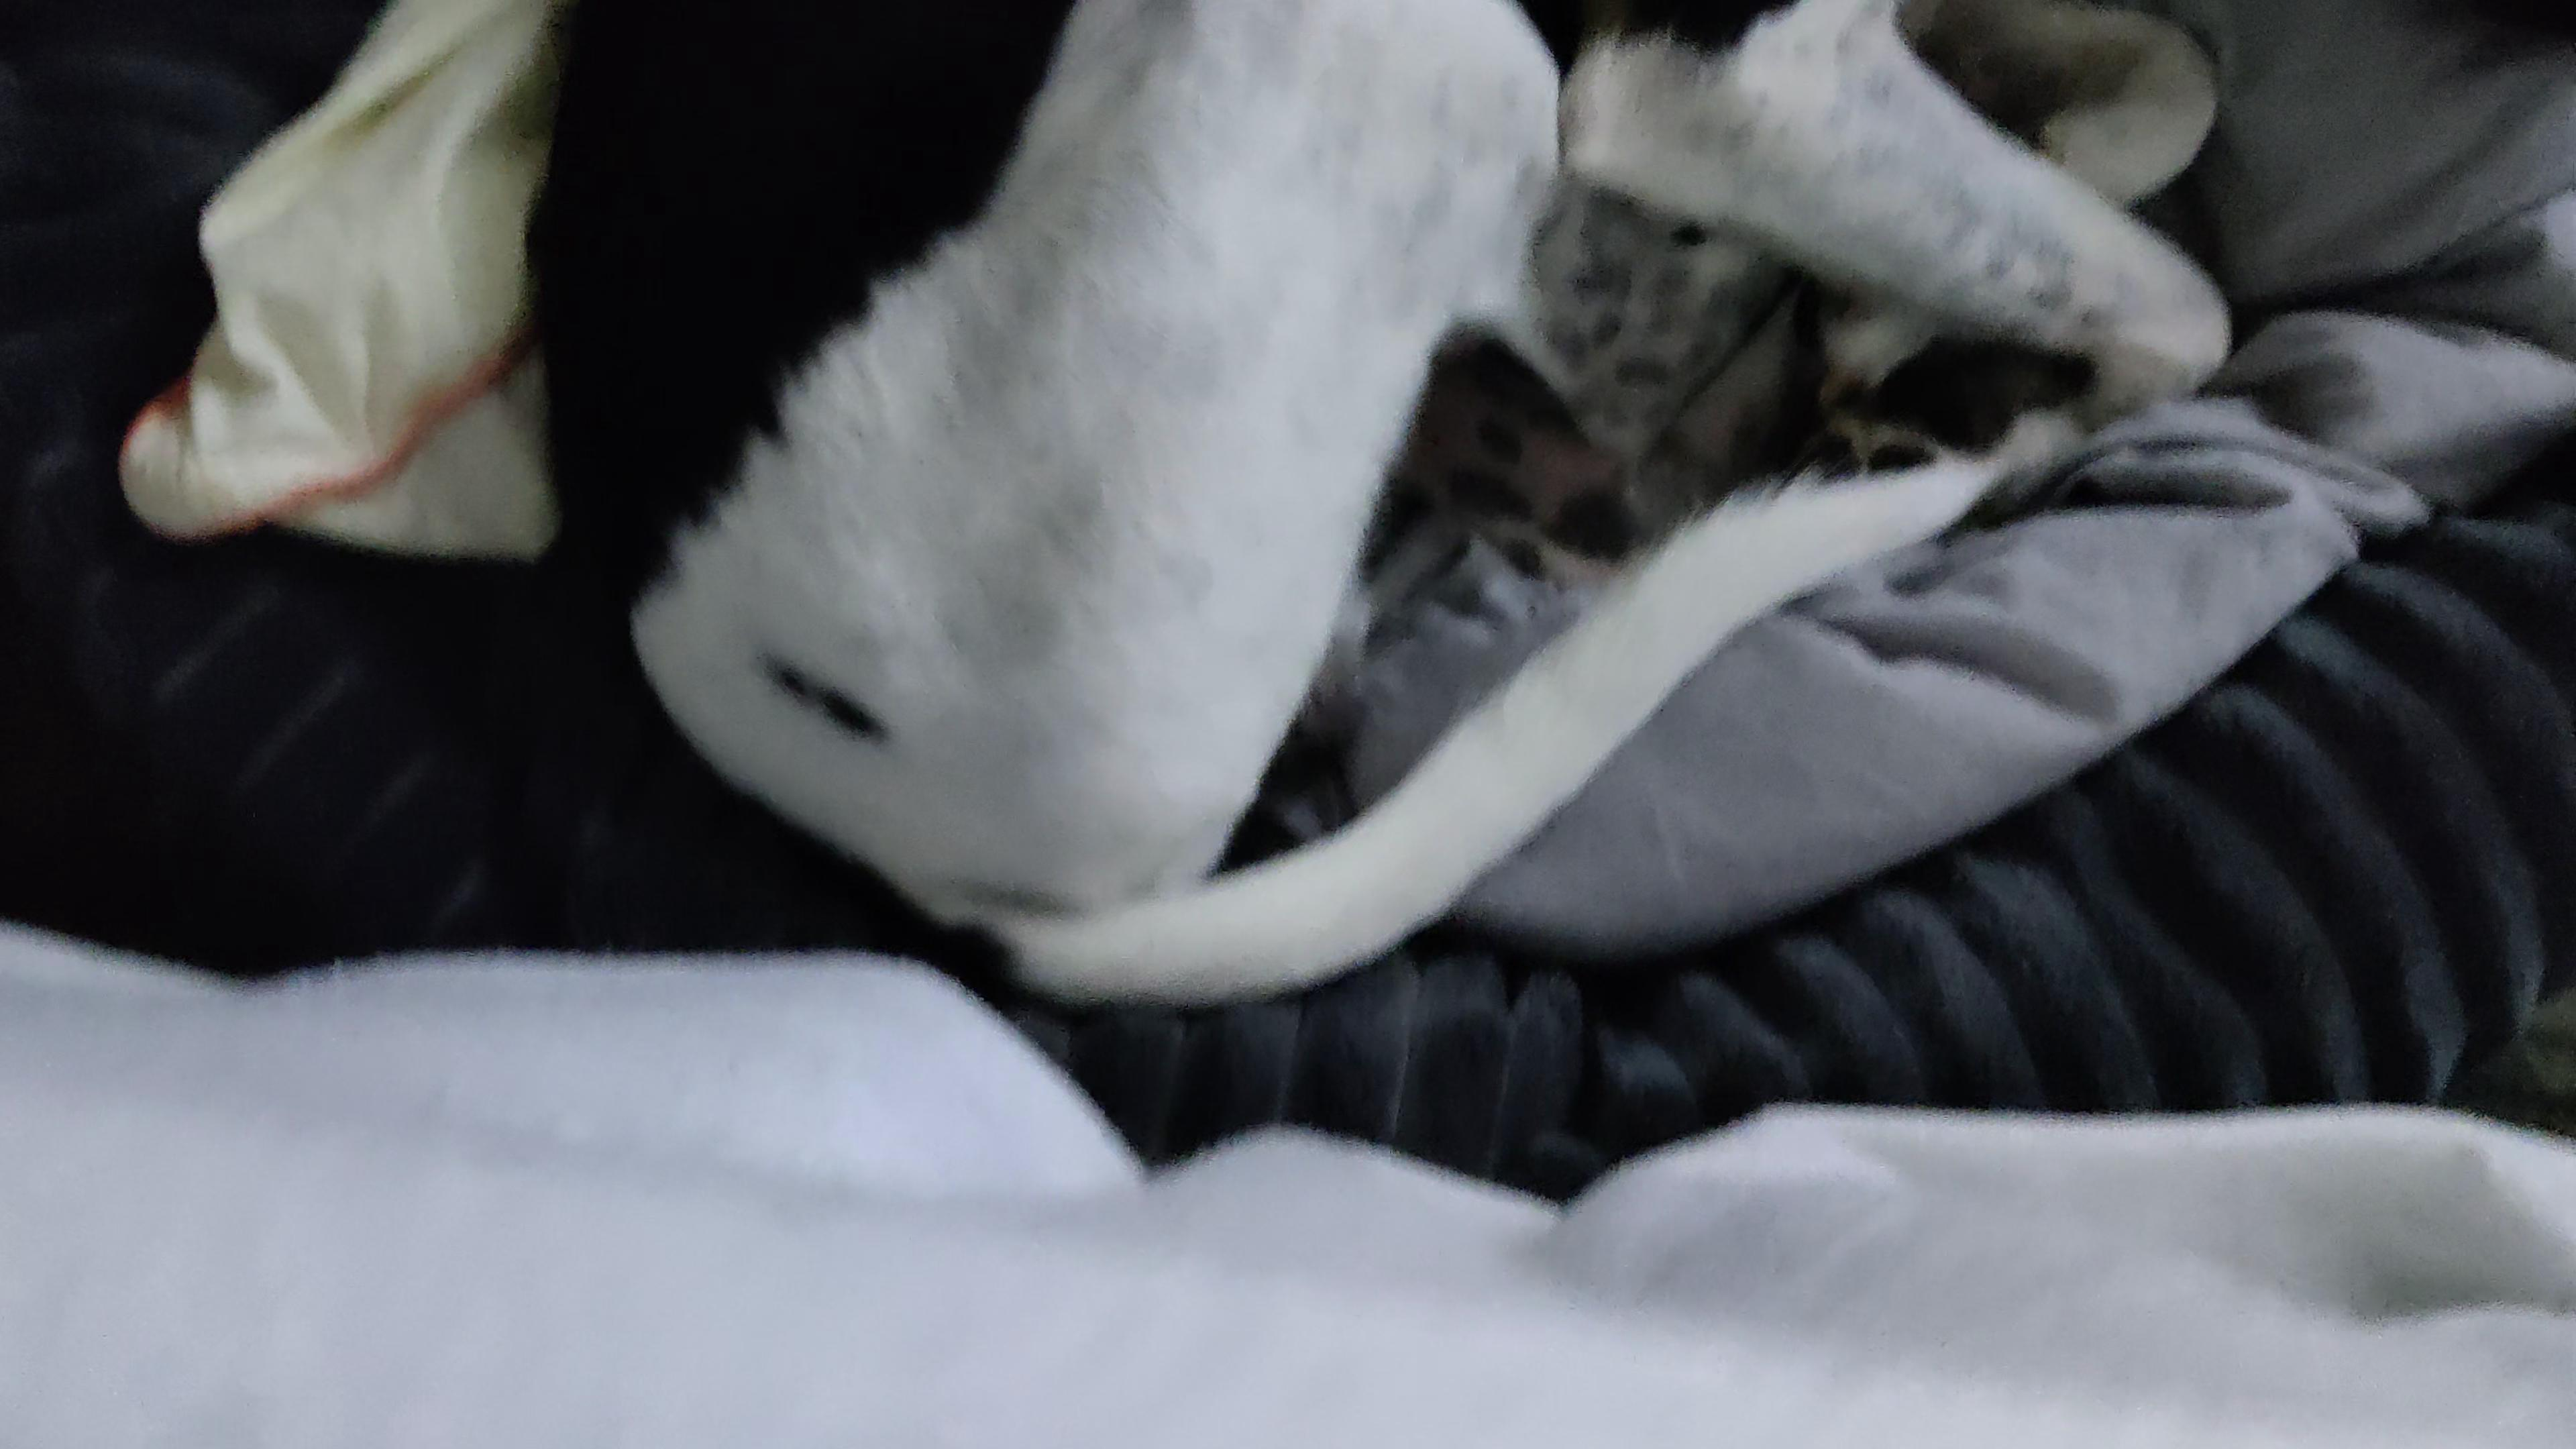Dog: (460, 0, 2296, 1014)
